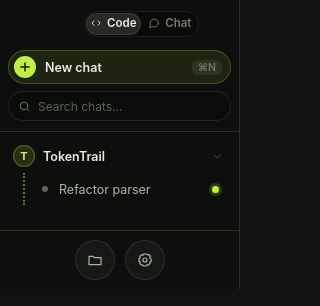
Test case: Sidebar collapsible projects › flags a collapsed group hiding a chat that awaits an answer
What coordinates should you click on to do the following:
click the text "TokenTrail"
I would click on:
 (74, 156)
Its box is [43,148,105,164].
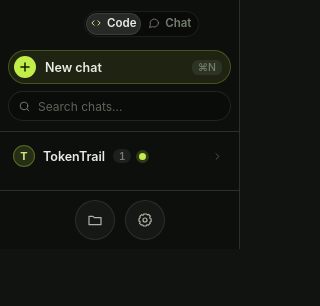
Check: the element titled "A chat in this group is waiting for your answer" is shown, box [140,152,146,160]
